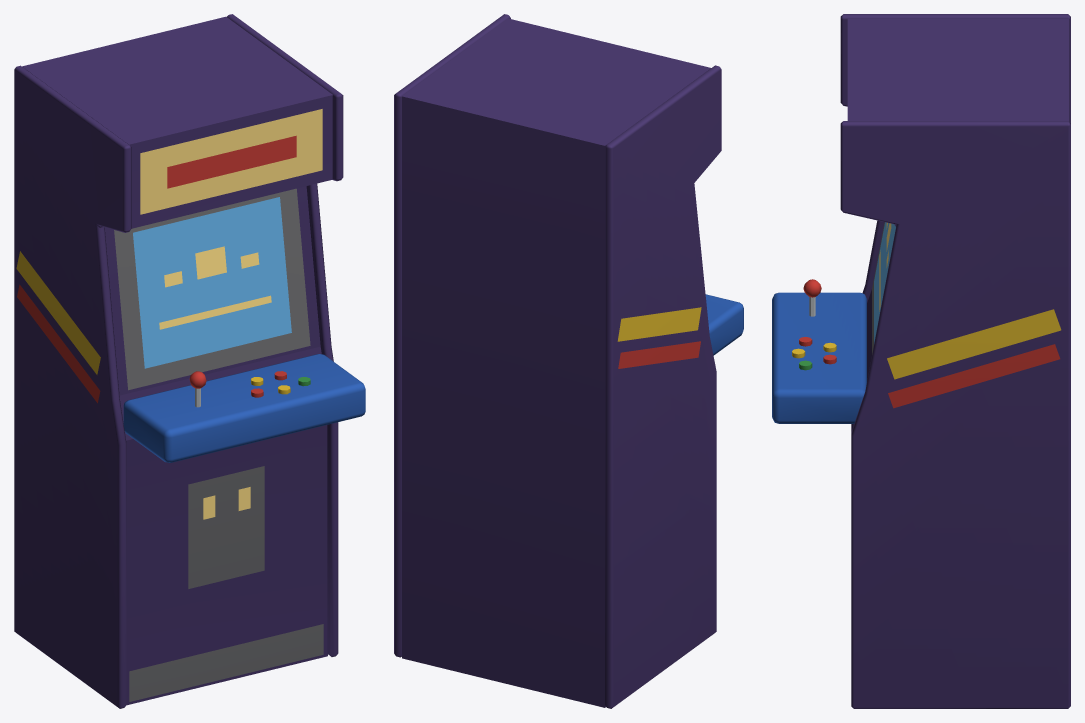
Rendered from arcade.glb.
The picture shows the model from 3 angles, left to right: view 1: azimuth 30°, elevation 25°; view 2: azimuth 150°, elevation 25°; view 3: azimuth 270°, elevation 25°; orthographic projection. The views are drawn at different scales.
Parts seen in each view (by area): view 1: playplace_arcade; view 2: playplace_arcade; view 3: playplace_arcade.
Boxes of the visible parts, x1,y1,x2,y2 form: playplace_arcade: (14,14,365,708); playplace_arcade: (394,14,743,708); playplace_arcade: (772,14,1070,708).
Bounding box in the file's own units: 0.756 × 1.84 × 0.85.
